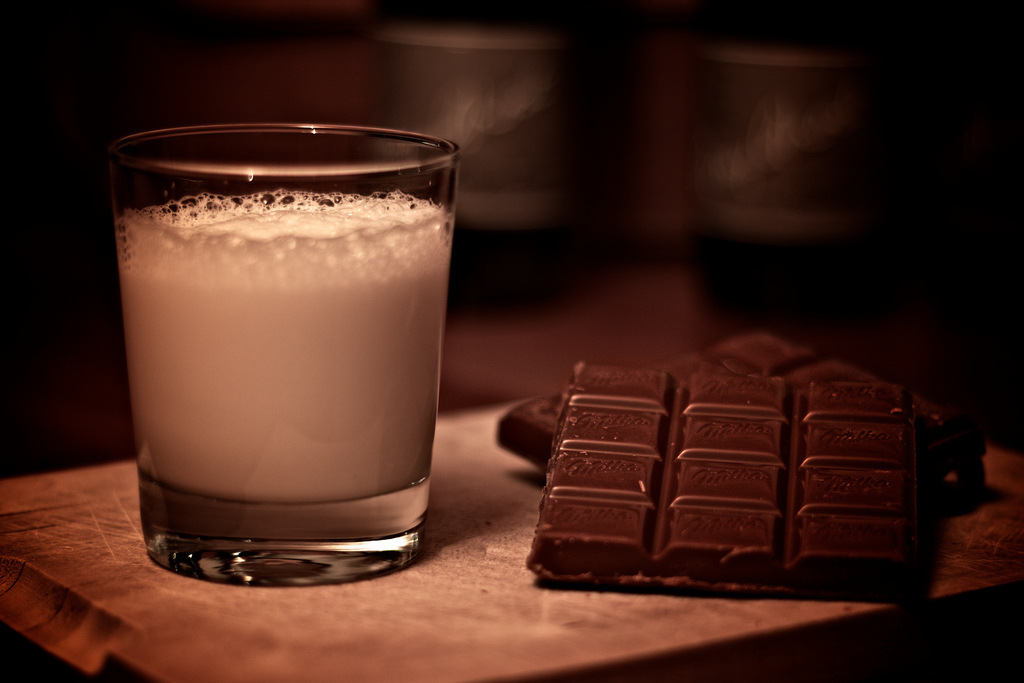glass of milk: (93, 118, 475, 586)
